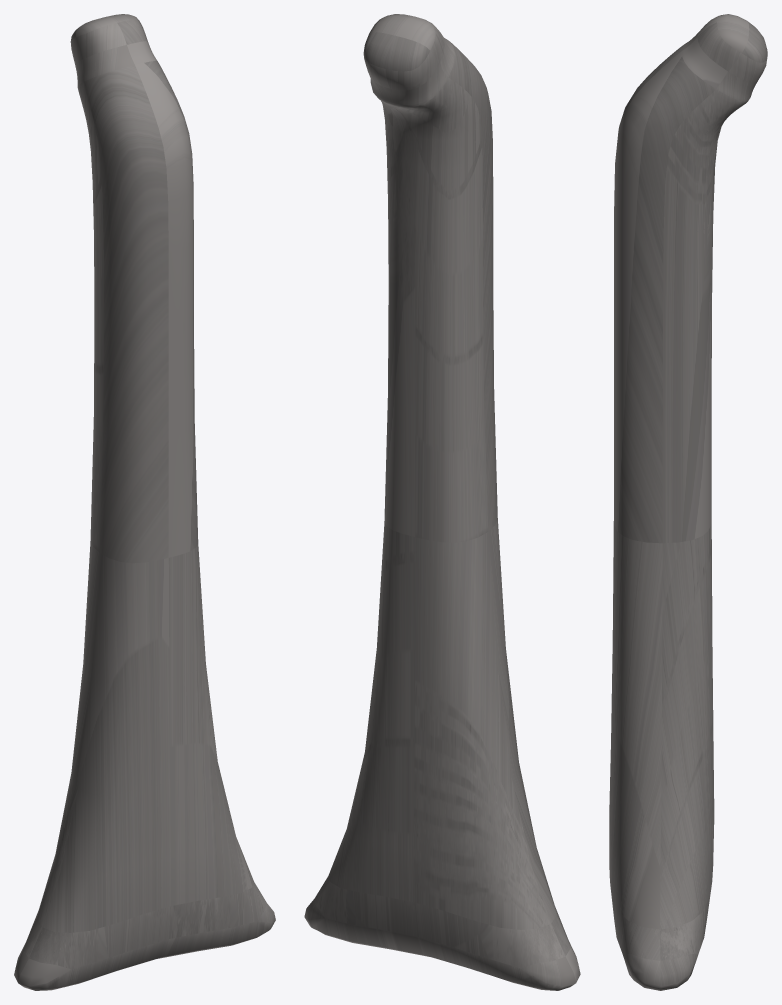
File: Femur.fbx
The picture shows the model from 3 angles, left to right: view 1: azimuth 30°, elevation 25°; view 2: azimuth 150°, elevation 25°; view 3: azimuth 270°, elevation 25°; orthographic projection. The views are drawn at different scales.
Parts seen in each view (by area): view 1: Femur; view 2: Femur; view 3: Femur.
Boxes of the visible parts, x1,y1,x2,y2 form: Femur: (14,14,275,990); Femur: (304,14,580,990); Femur: (609,14,767,990).
Size of the model in its own units: 261 by 903 by 141.
